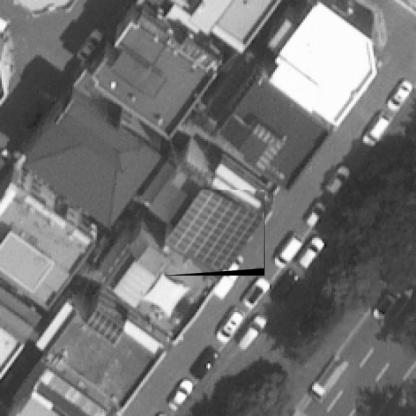solar-pv-panel: (164, 190, 264, 273)
